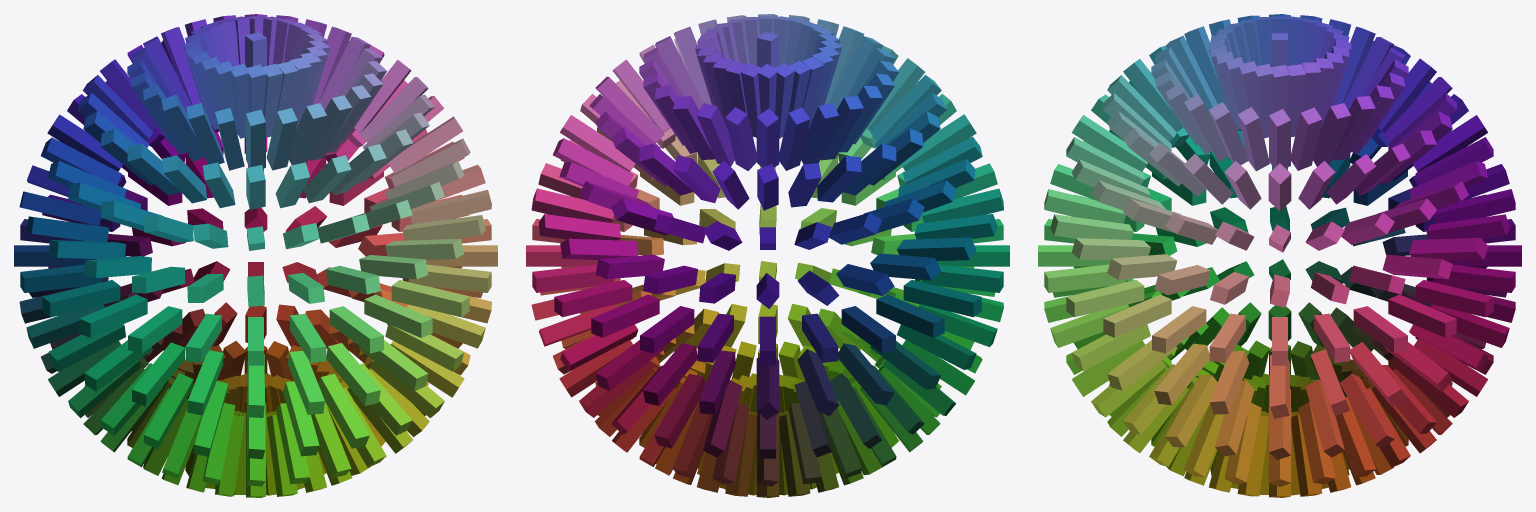
File: BoxStar.fbx
3 renders of one model, left to right at view 1: azimuth 30°, elevation 25°; view 2: azimuth 150°, elevation 25°; view 3: azimuth 270°, elevation 25°, orthographic.
Visible parts, largest first — view 1: OUT_PP; view 2: OUT_PP; view 3: OUT_PP.
Boxes of the visible parts, x1,y1,x2,y2 form: OUT_PP: [14, 14, 497, 497]; OUT_PP: [526, 14, 1009, 497]; OUT_PP: [1038, 14, 1521, 497].
Bounding box in the file's own units: 300 × 300 × 300.
